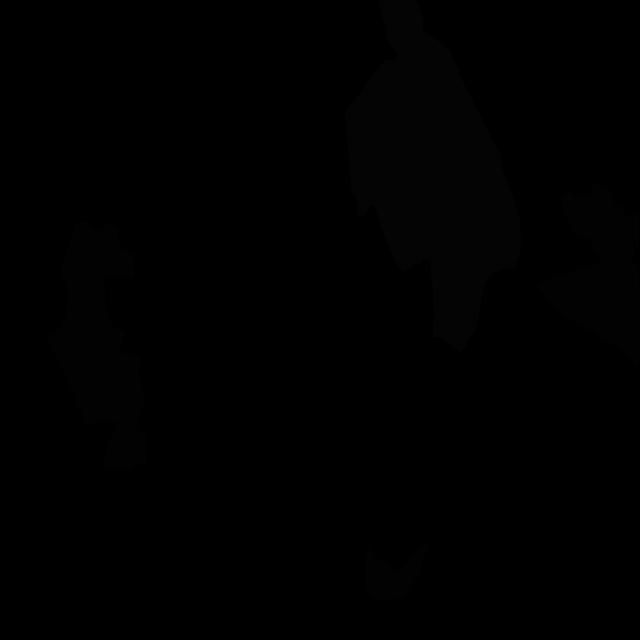cardboard: (47, 221, 146, 473), (536, 214, 640, 372), (562, 183, 635, 265), (365, 544, 428, 599)
soft_plastic: (345, 0, 521, 352)
